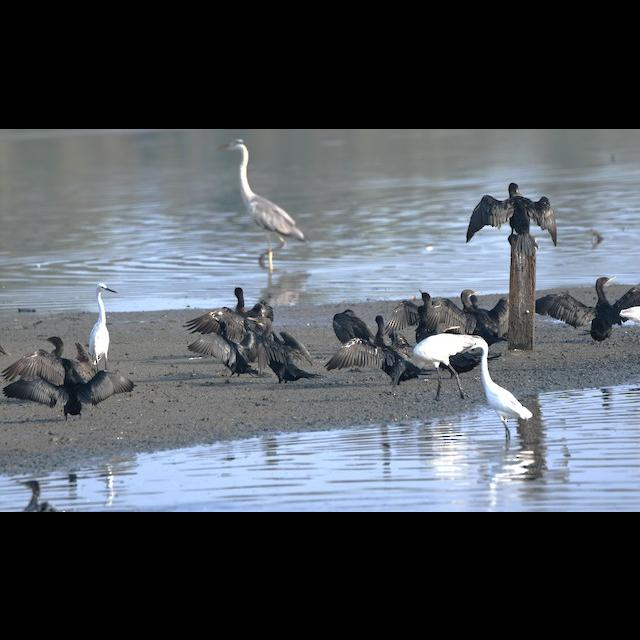cormorant: (466, 178, 560, 256), (540, 274, 636, 346), (24, 368, 130, 417), (246, 318, 316, 382), (330, 312, 390, 376), (195, 316, 241, 378), (432, 288, 494, 328)
egret: (215, 138, 307, 272), (464, 342, 534, 434), (399, 341, 457, 401), (84, 281, 120, 367)
